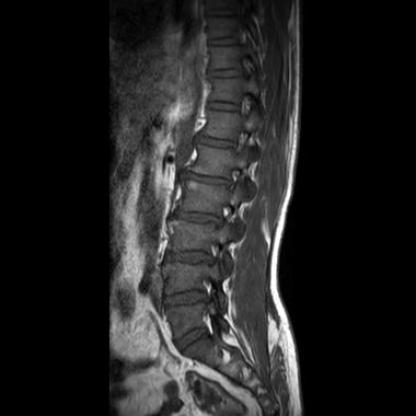Annular Tearrotation: (164, 284, 213, 311)
Disc Bulgerotation: (164, 285, 214, 310), (161, 248, 216, 267), (170, 208, 222, 228)
Disc Protrusionrotation: (176, 170, 235, 189)
